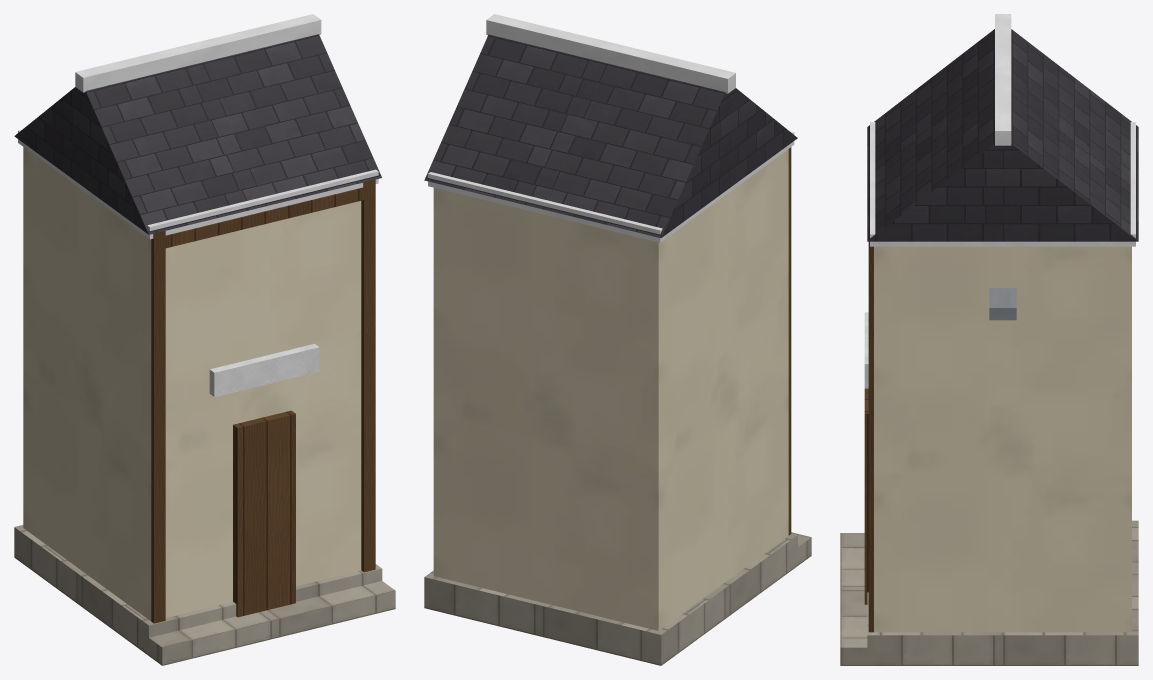
Rendered from category.bridge.t4.glb.
3 views of the same model, side by side, from view 1: azimuth 30°, elevation 25°; view 2: azimuth 150°, elevation 25°; view 3: azimuth 270°, elevation 25° (orthographic).
Parts seen in each view (by area): view 1: building.category.bridge.t4; view 2: building.category.bridge.t4; view 3: building.category.bridge.t4.
Boxes of the visible parts, <box> form: building.category.bridge.t4: <box>14,14,395,665</box>; building.category.bridge.t4: <box>424,14,811,665</box>; building.category.bridge.t4: <box>840,14,1138,665</box>.
Size of the model in its own units: 2.32 by 4.36 by 2.2.
7 materials, 7 textured.
